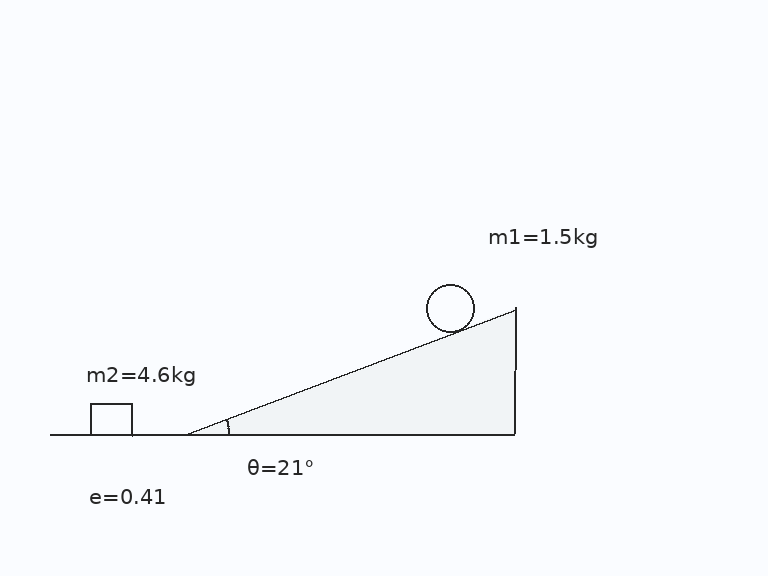ball: (424, 282, 476, 334)
block: (88, 401, 134, 436)
ramp: (187, 307, 518, 436)
